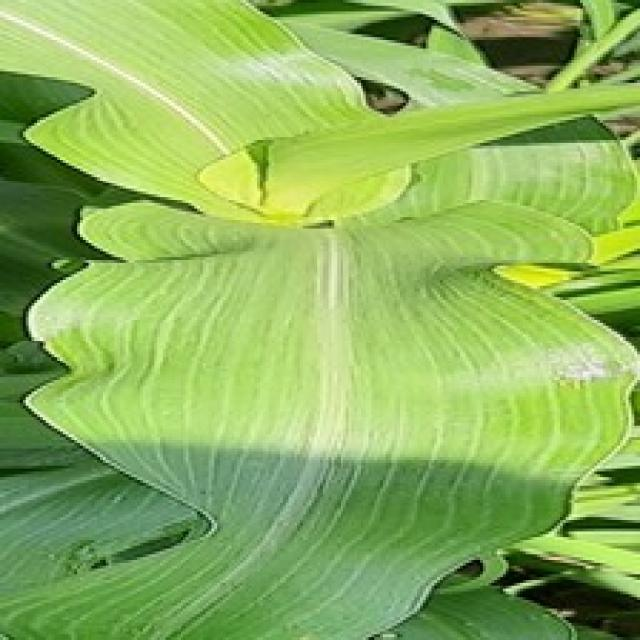Corn: (0, 0, 637, 637), (0, 0, 409, 223)
